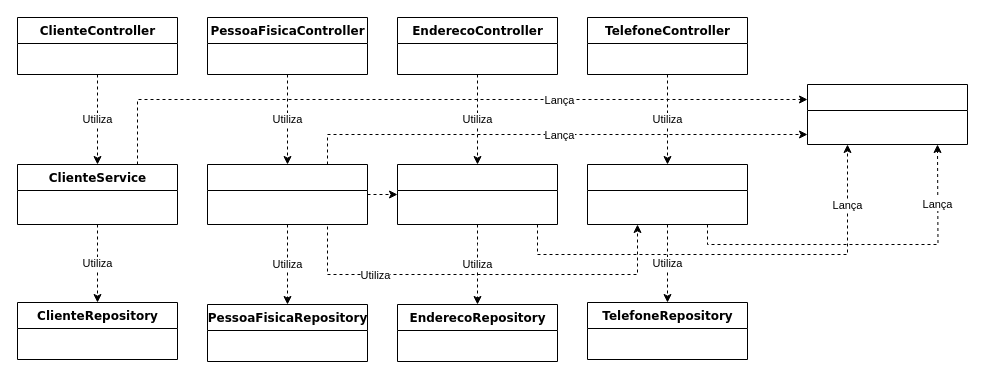
The diagram is 985 pixels wide and 379 high, and some of its shapes have lost their labels. The shapes that lost their labels are listed below. From the top down, each one's centre as x and y in pixels, then its label:
(887,114): AppException
(287,194): PessoaFisicaService
(477,194): EnderecoService
(667,194): TelefoneService
